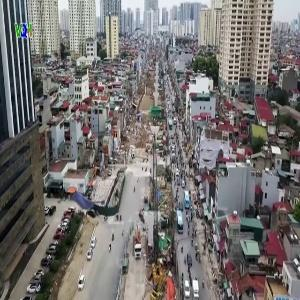drone: (63, 173, 117, 227)
